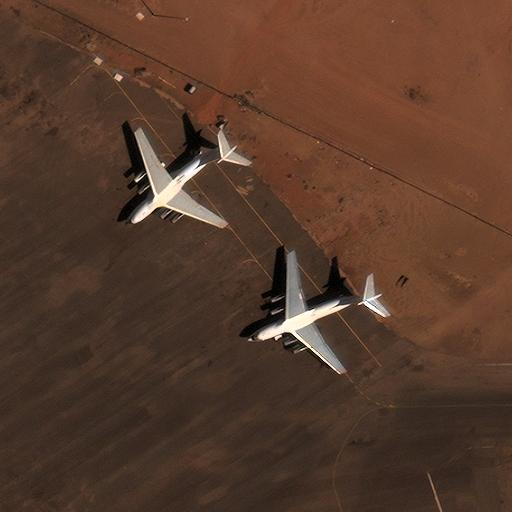Military Transport: (245, 254, 382, 375), (125, 132, 236, 228)
